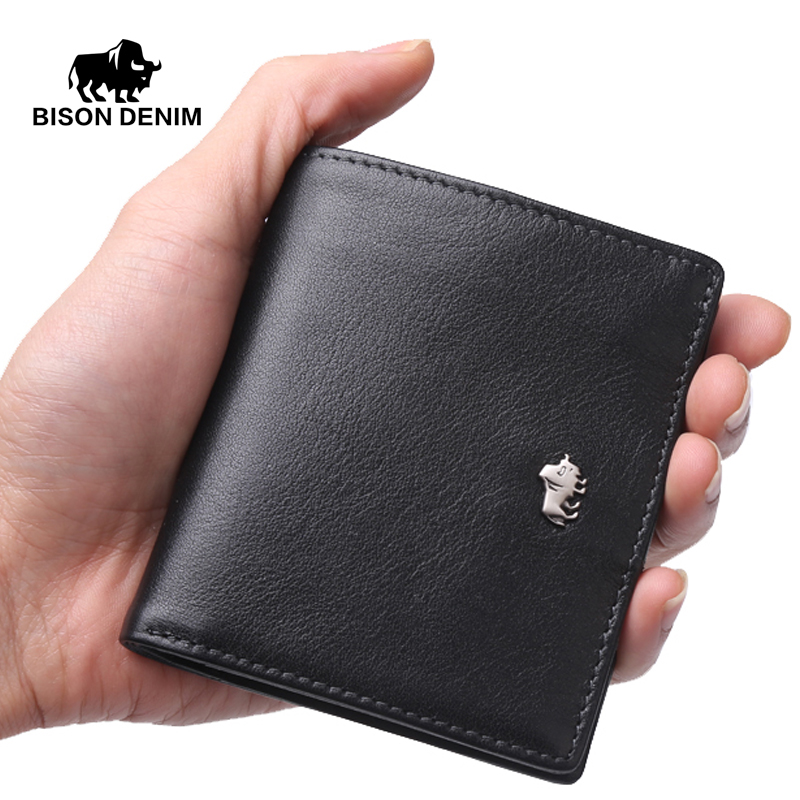monedero: (116, 141, 730, 792)
